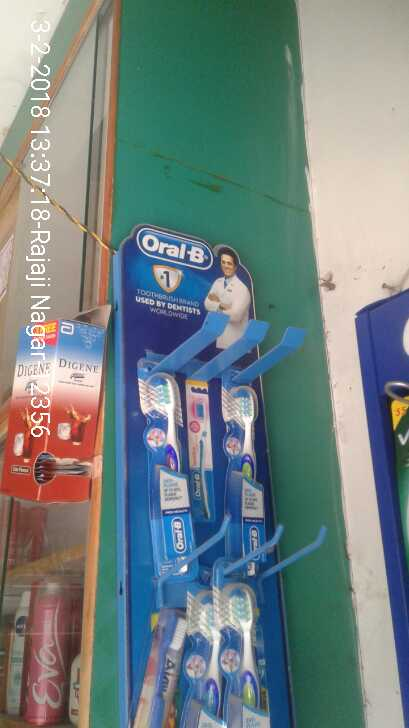oralb: (146, 372, 210, 569), (211, 380, 270, 562), (160, 566, 222, 728), (230, 582, 264, 726)
